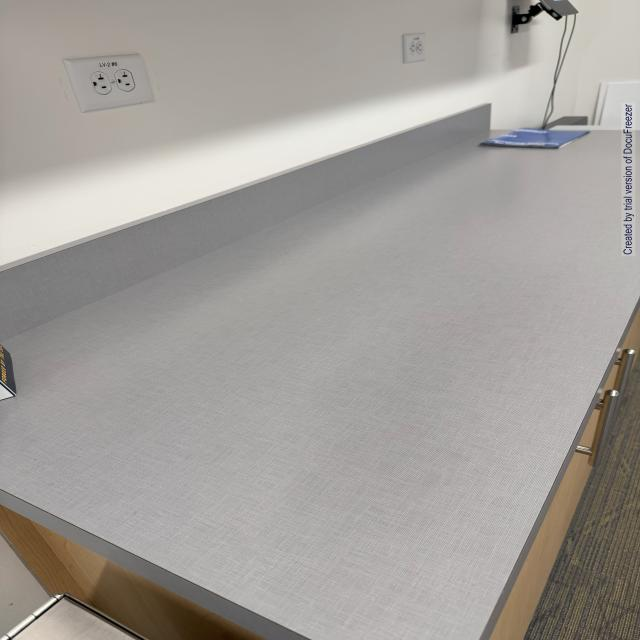Table: (3, 95, 640, 640)
